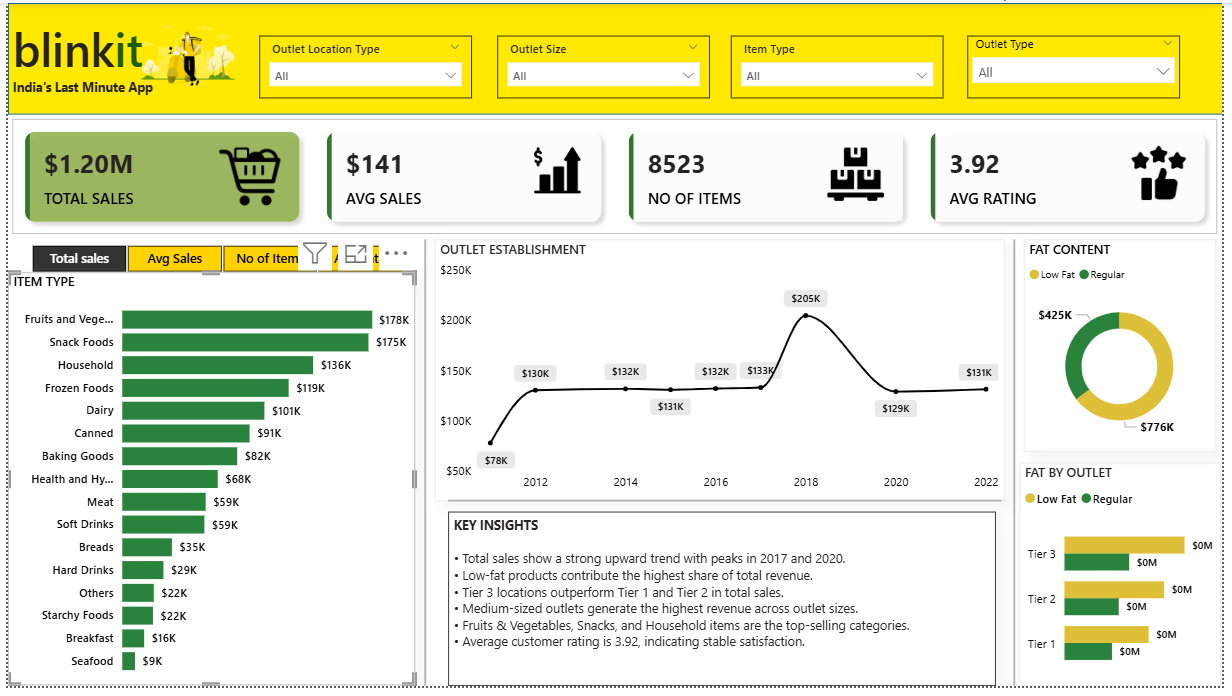

The page's visual inventory and layout, read from the dashboard file:
{"tool":"powerbi","page":{"name":"dashboard","canvas":[1280,720],"ordinal":0},"visuals":[{"type":"shape","box":[0,0,1280.4,117.5],"z":0,"group":"g1"},{"type":"cardVisual","fields":{"Data":["BlinkIT Grocery Data.Total sales","BlinkIT Grocery Data.Avg Sales","BlinkIT Grocery Data.No of Items","BlinkIT Grocery Data.Avg Rating"]},"box":[0,117.5,1280.4,131.6],"z":0},{"type":"textbox","box":[0,11,169.3,106.6],"z":1000,"group":"g1"},{"type":"slicer","fields":{"Values":["Metrics.Metrics"]},"box":[0,249.2,449.8,34.5],"z":1000},{"type":"image","box":[116,11,148.9,89.3],"z":2000,"group":"g1"},{"type":"barChart","title":"ITEM TYPE","fields":{"Y":["BlinkIT Grocery Data.Total sales"],"Category":["BlinkIT Grocery Data.Item Type"]},"box":[0,283.7,429.4,435.7],"z":2000},{"type":"slicer","fields":{"Values":["BlinkIT Grocery Data.Outlet Location Type"]},"box":[264.9,34.5,224.1,65.8],"z":3000,"group":"g1"},{"type":"donutChart","title":"FAT CONTENT","fields":{"Y":["BlinkIT Grocery Data.Total sales"],"Category":["BlinkIT Grocery Data.Item Fat Content"]},"box":[1070.4,249.2,202.2,224.1],"z":3000},{"type":"group","id":"g1","title":"Group 2","box":[0,0,1280.4,117.5],"z":4000},{"type":"slicer","fields":{"Values":["BlinkIT Grocery Data.Outlet Size"]},"box":[515.6,34.5,224,65.8],"z":4000,"group":"g1"},{"type":"slicer","fields":{"Values":["BlinkIT Grocery Data.Item Type"]},"box":[761.7,34.5,224,65.8],"z":5000,"group":"g1"},{"type":"clusteredBarChart","title":"FAT BY OUTLET","fields":{"Y":["BlinkIT Grocery Data.Total sales"],"Category":["BlinkIT Grocery Data.Outlet Location Type"],"Series":["BlinkIT Grocery Data.Item Fat Content"]},"box":[1065.7,484.3,211.6,235.1],"z":5000},{"type":"slicer","title":"OUTLET TYPE","fields":{"Values":["BlinkIT Grocery Data.Outlet Type"]},"box":[1010.9,34.5,224.1,65.8],"z":6000,"group":"g1"},{"type":"lineChart","title":"OUTLET ESTABLISHMENT","fields":{"Y":["BlinkIT Grocery Data.Total sales"],"Category":["BlinkIT Grocery Data.Outlet Establishment Year"]},"box":[449.8,249.2,600.3,275.8],"z":6000},{"type":"shape","box":[463.9,512.5,583,23.5],"z":7000},{"type":"shape","box":[429.4,249.2,20.4,470.2],"z":8000},{"type":"shape","box":[1050.1,249.2,20.4,470.2],"z":9000},{"type":"textbox","box":[463.9,536,576.7,183.4],"z":10000}]}

Visuals, with their boxes in screenshot pixels (x1, y1, x2, y2), scaled from the page's 1280x720 canvas onto the 1232x696 screenshot:
shape: [left=0, top=0, right=1231, bottom=114]
cardVisual - BlinkIT Grocery Data.Total sales x BlinkIT Grocery Data.Avg Sales: [left=0, top=114, right=1231, bottom=241]
textbox: [left=0, top=11, right=163, bottom=114]
slicer - Metrics.Metrics: [left=0, top=241, right=433, bottom=274]
image: [left=112, top=11, right=255, bottom=97]
"ITEM TYPE" barChart: [left=0, top=274, right=413, bottom=695]
slicer - BlinkIT Grocery Data.Outlet Location Type: [left=255, top=33, right=471, bottom=97]
"FAT CONTENT" donutChart: [left=1030, top=241, right=1225, bottom=458]
"Group 2" group: [left=0, top=0, right=1231, bottom=114]
slicer - BlinkIT Grocery Data.Outlet Size: [left=496, top=33, right=712, bottom=97]
slicer - BlinkIT Grocery Data.Item Type: [left=733, top=33, right=949, bottom=97]
"FAT BY OUTLET" clusteredBarChart: [left=1026, top=468, right=1229, bottom=695]
"OUTLET TYPE" slicer: [left=973, top=33, right=1189, bottom=97]
"OUTLET ESTABLISHMENT" lineChart: [left=433, top=241, right=1011, bottom=508]
shape: [left=447, top=495, right=1008, bottom=518]
shape: [left=413, top=241, right=433, bottom=695]
shape: [left=1011, top=241, right=1030, bottom=695]
textbox: [left=447, top=518, right=1002, bottom=695]
